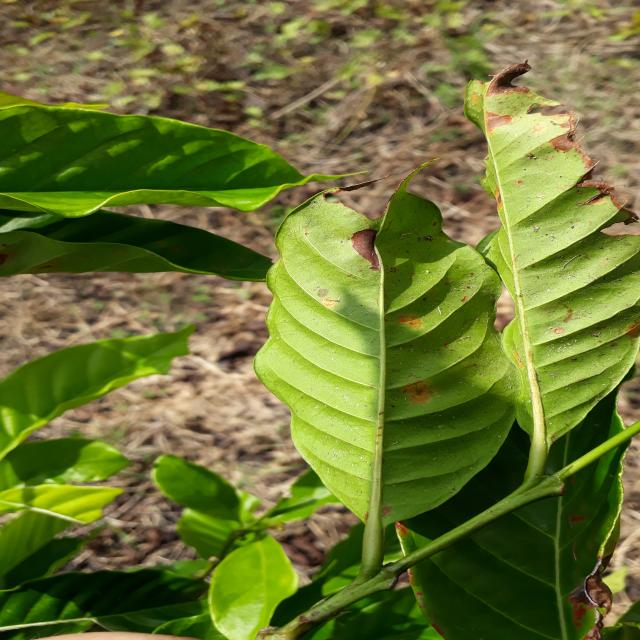Enfermedad-Roya: (256, 192, 520, 551)
